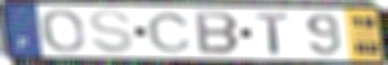9: (303, 12, 343, 57)
B: (193, 10, 243, 56)
C: (145, 12, 195, 54)
O: (39, 8, 87, 54)
S: (86, 8, 136, 55)
T: (254, 12, 293, 56)
